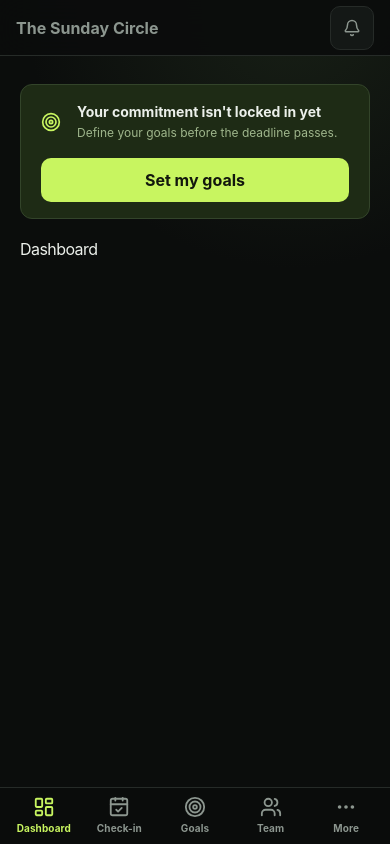
app shell › opens Activity, Settings and Admin from More on a phone
Click the button "More" at (346, 816), box [308, 792, 384, 840]
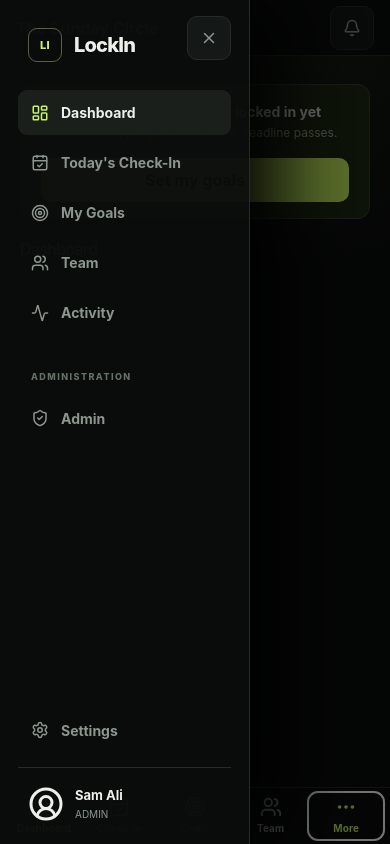
Expected: the link "Activity" is shown, [31, 300, 114, 324]
Expected: the link "Settings" is shown, [31, 718, 118, 742]
Expected: the link "Admin" is shown, [31, 406, 105, 430]
Click the button named "Close menu" at (209, 38), box [187, 16, 231, 60]
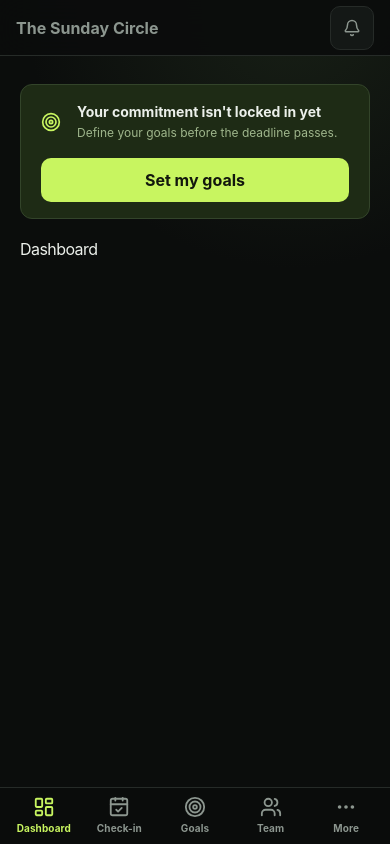
Expected: the button "More" is collapsed, [308, 792, 384, 840]
